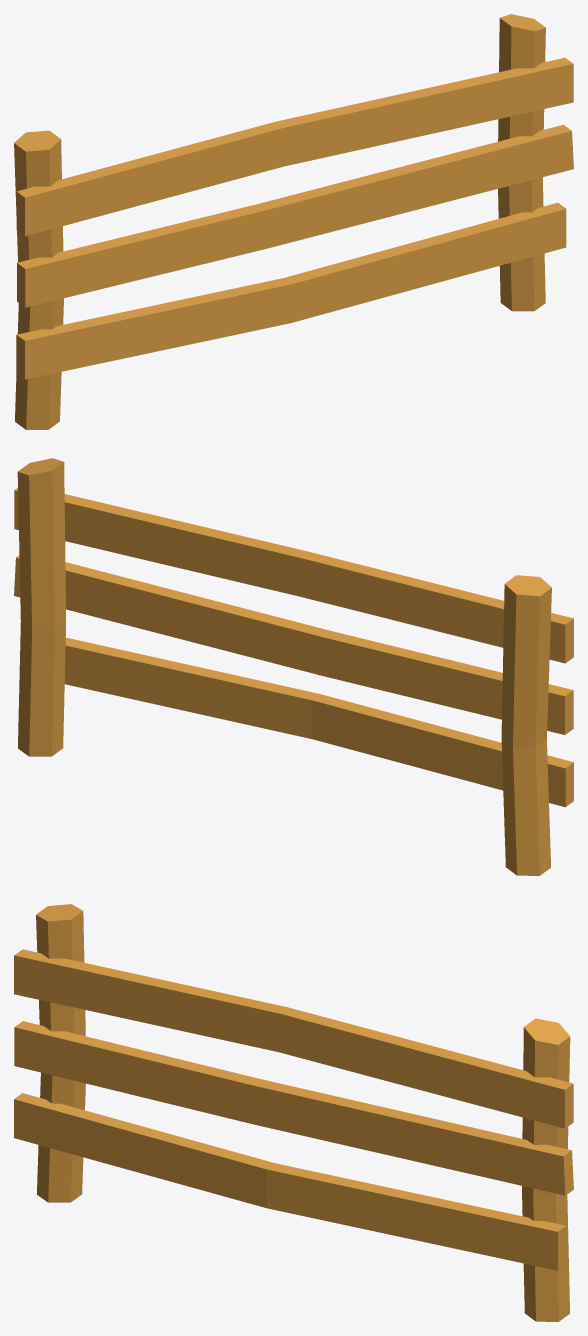
Rendered from fence.glb.
3 renders of one model, top to bottom at view 1: azimuth 30°, elevation 25°; view 2: azimuth 150°, elevation 25°; view 3: azimuth 330°, elevation 25°, orthographic.
Parts seen in each view (by area): view 1: fence; view 2: fence; view 3: fence.
Part boxes in pixels (x1=…): fence: x1=14, y1=14, x2=573, y2=429; fence: x1=14, y1=458, x2=573, y2=875; fence: x1=14, y1=904, x2=573, y2=1321.
Bounding box in the file's own units: 2.26 × 1.12 × 0.2557.
